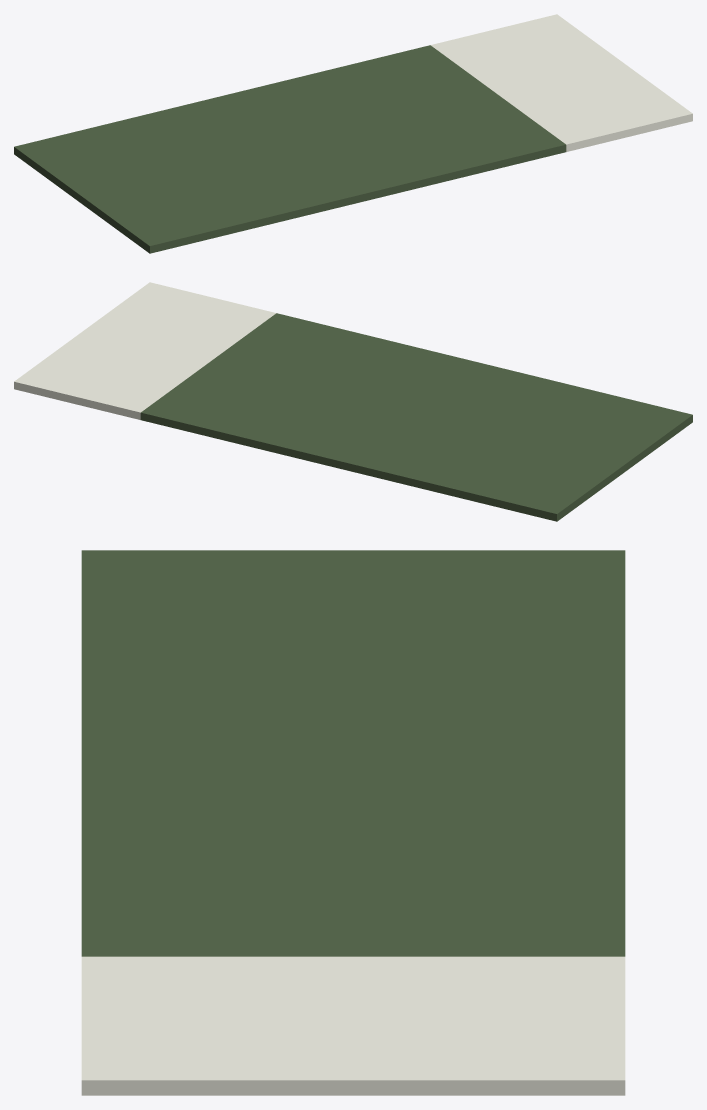
The model's file is billete.glb.
3 renders of one model, top to bottom at view 1: azimuth 30°, elevation 25°; view 2: azimuth 150°, elevation 25°; view 3: azimuth 270°, elevation 25°, orthographic. The views are drawn at different scales.
Parts seen in each view (by area): view 1: pieza_billete; view 2: pieza_billete; view 3: pieza_billete.
Part boxes in pixels (box(x1,y1,x2,y2)): pieza_billete: box(14, 14, 692, 253); pieza_billete: box(14, 282, 692, 521); pieza_billete: box(81, 550, 625, 1095).
Size of the model in its own units: 0.15 by 0.002 by 0.065.
